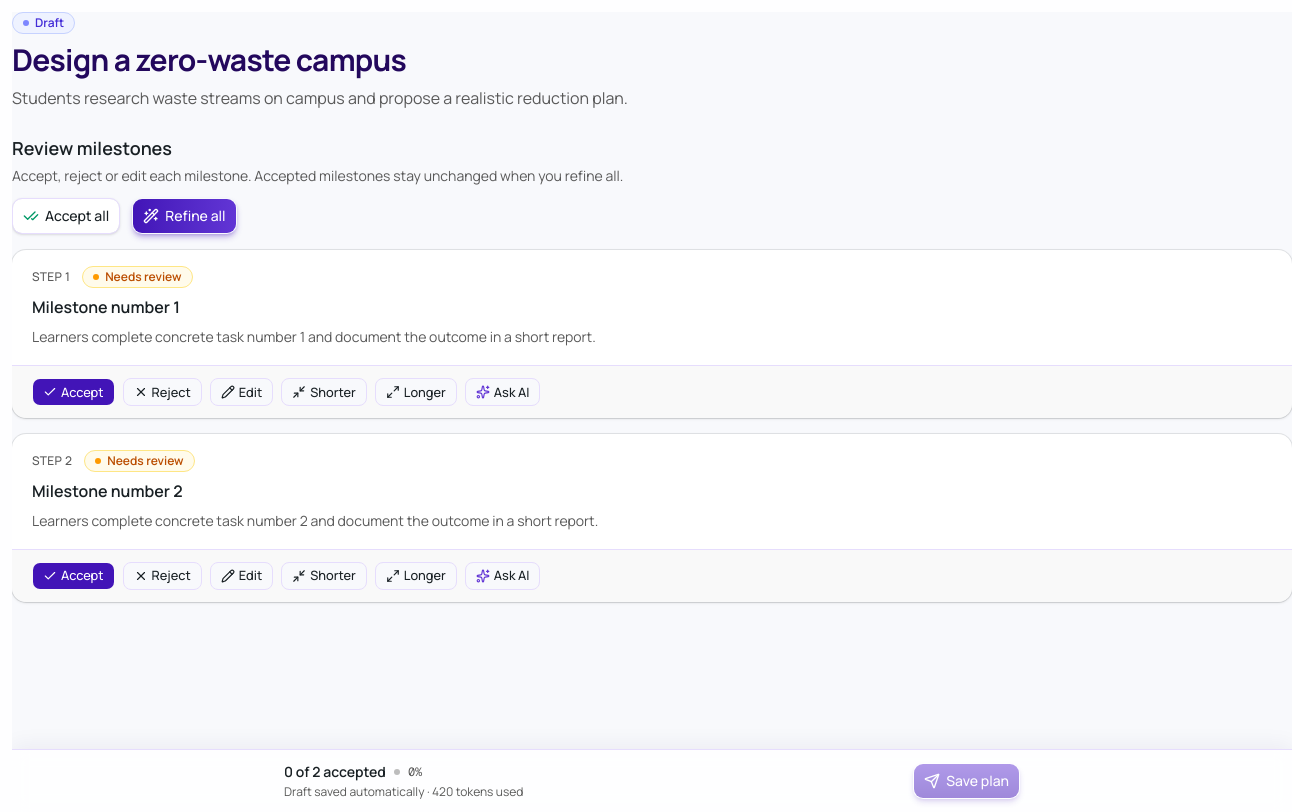
PlanEditor › sends a review command and shows the server state
This screenshot has width=1292, height=812.
What coordinates should you click on to do the following:
click the button "Accept" below "Milestone number 1"
I would click on:
 (73, 392)
Its box is [32,378,115,406].
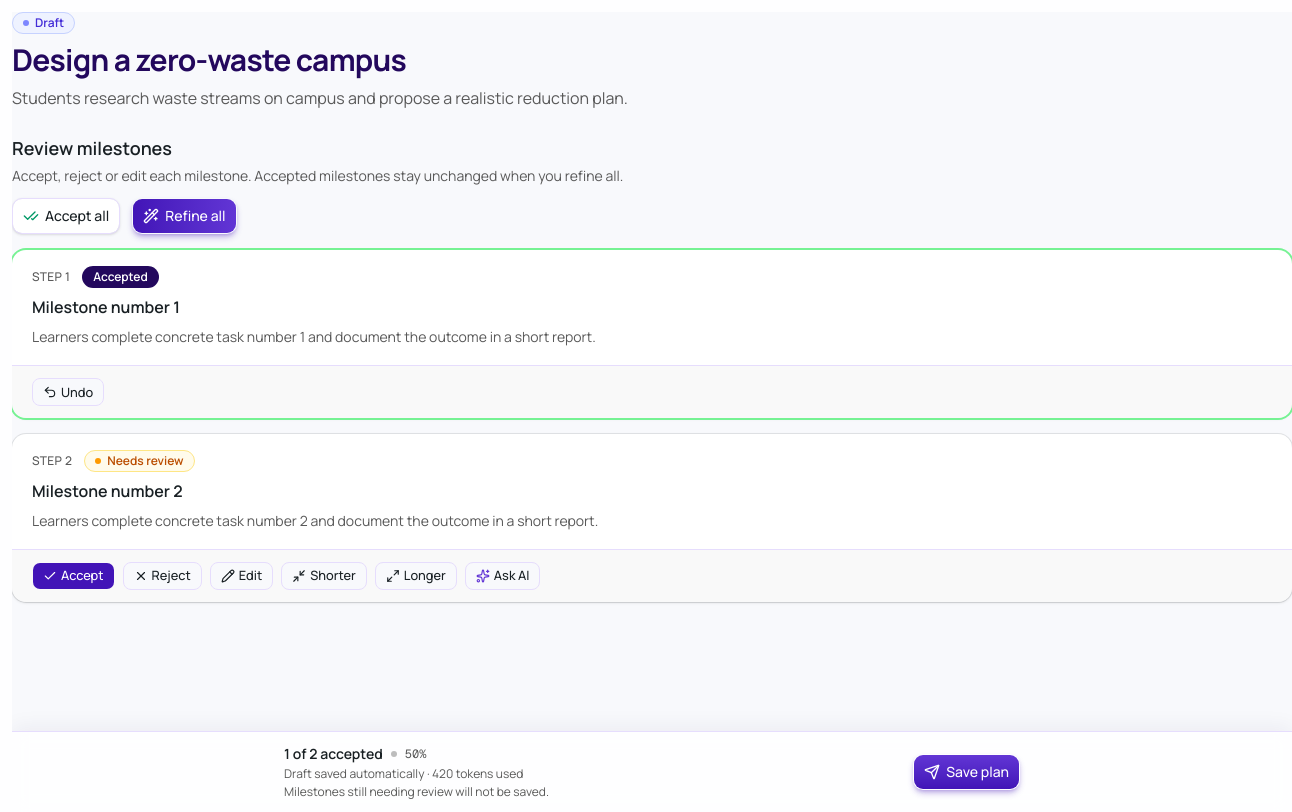
Check: the text "1 of 2 accepted" is shown, box [284,744,383,764]
